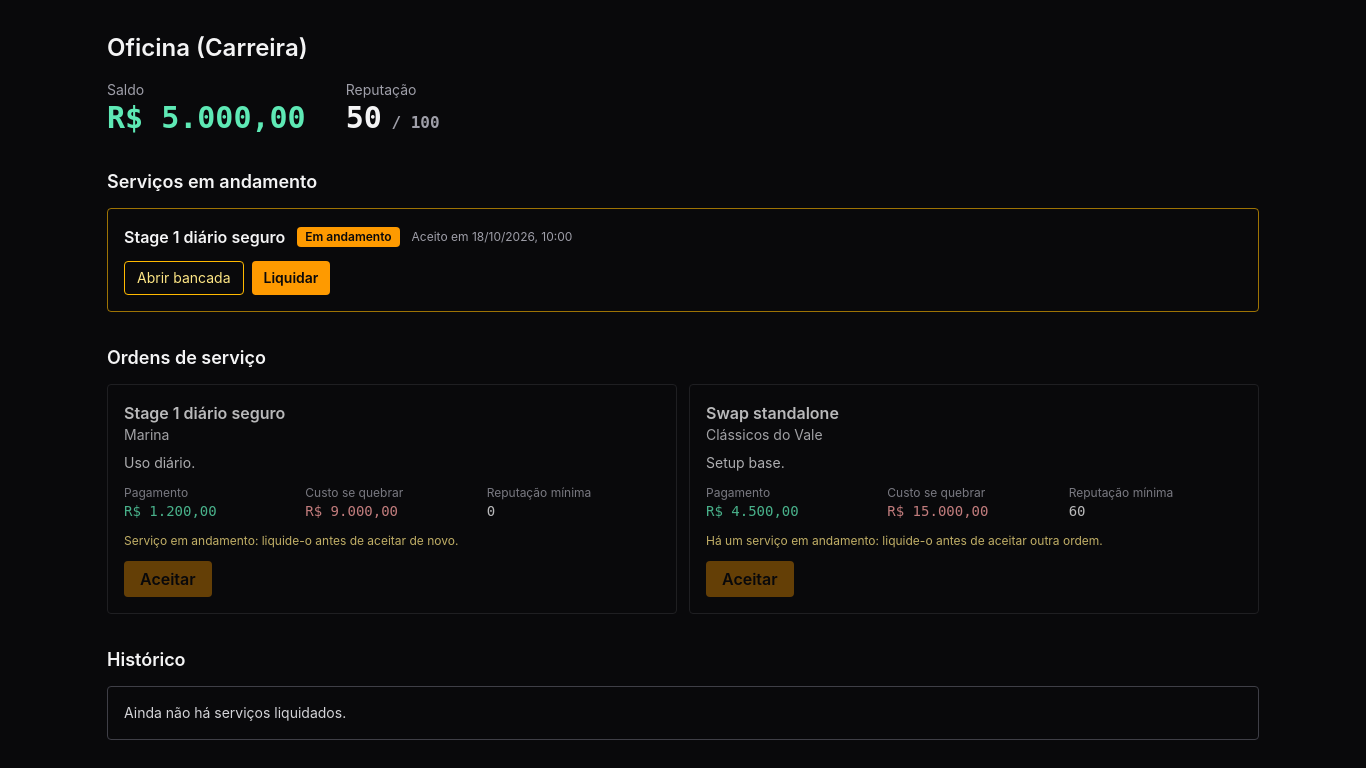
Test: WorkshopPage (002 T048) › liquidar com tentativa em andamento (409) explica o que falta
The image size is (1366, 768).
Click the button with aria-label "Liquidar o serviço Stage 1 diário seguro" at [291, 278], box [252,261,330,295]
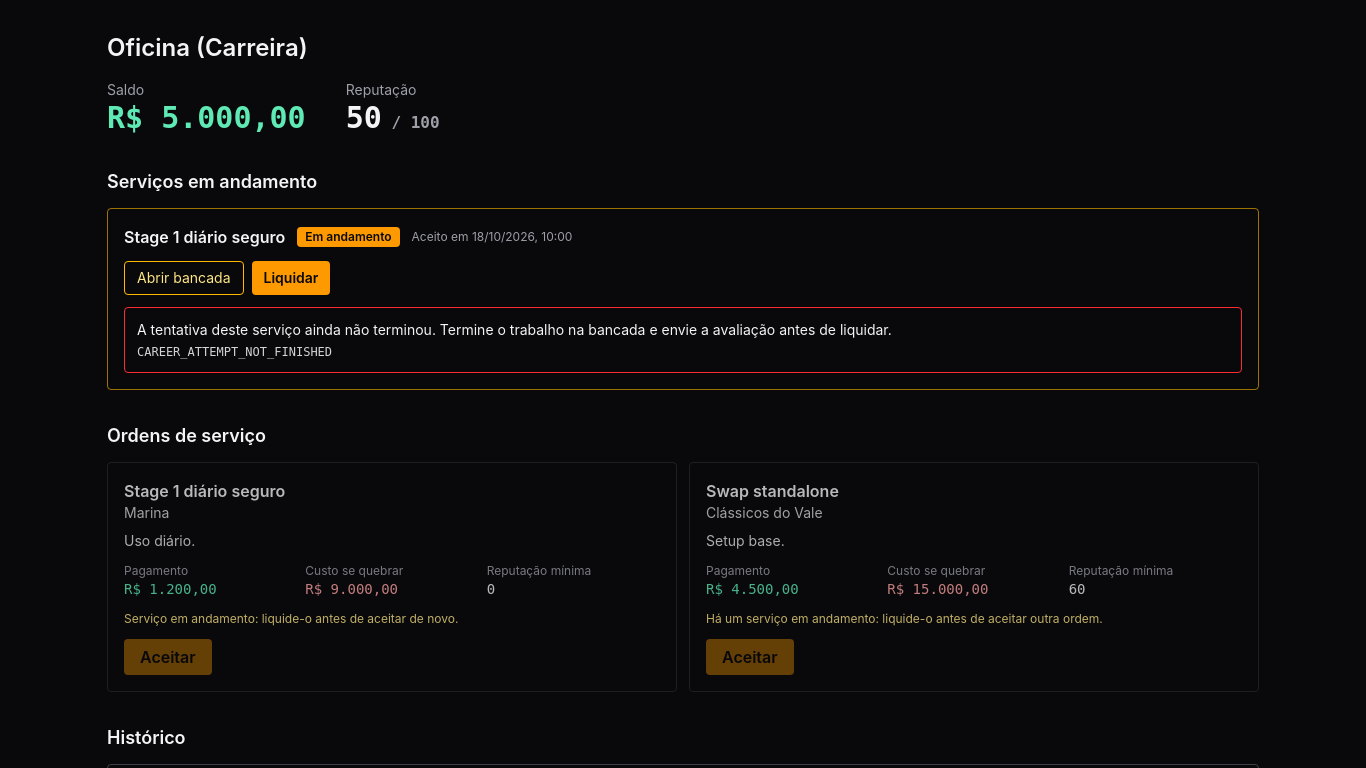
Result: the message shows "ainda não terminou" at [137,321,892,338]
Result: the message shows "CAREER_ATTEMPT_NOT_FINISHED" at [137,345,332,359]
